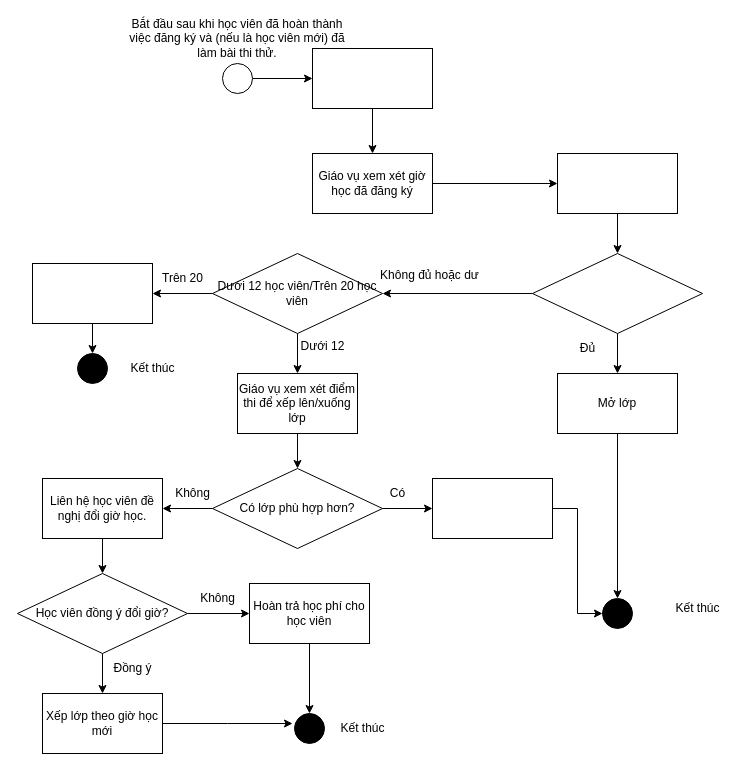
Some shapes in this 750 by 771 pixel diagram are drawn without their labels. Each missing label, with the box of its shape:
Giáo vụ chấm điểm thi thử và đánh giá kết quả: (312, 48, 432, 108)
Giáo vụ kiểm tra xem đã có đủ số lượng học viên (12-20): (532, 252, 702, 334)
Thông báo cho học viên về lớp mới: (432, 478, 552, 538)
Tách lớp: (32, 262, 152, 324)
Xác định cấp lớp phù hợp cho học viên: (556, 152, 678, 214)
